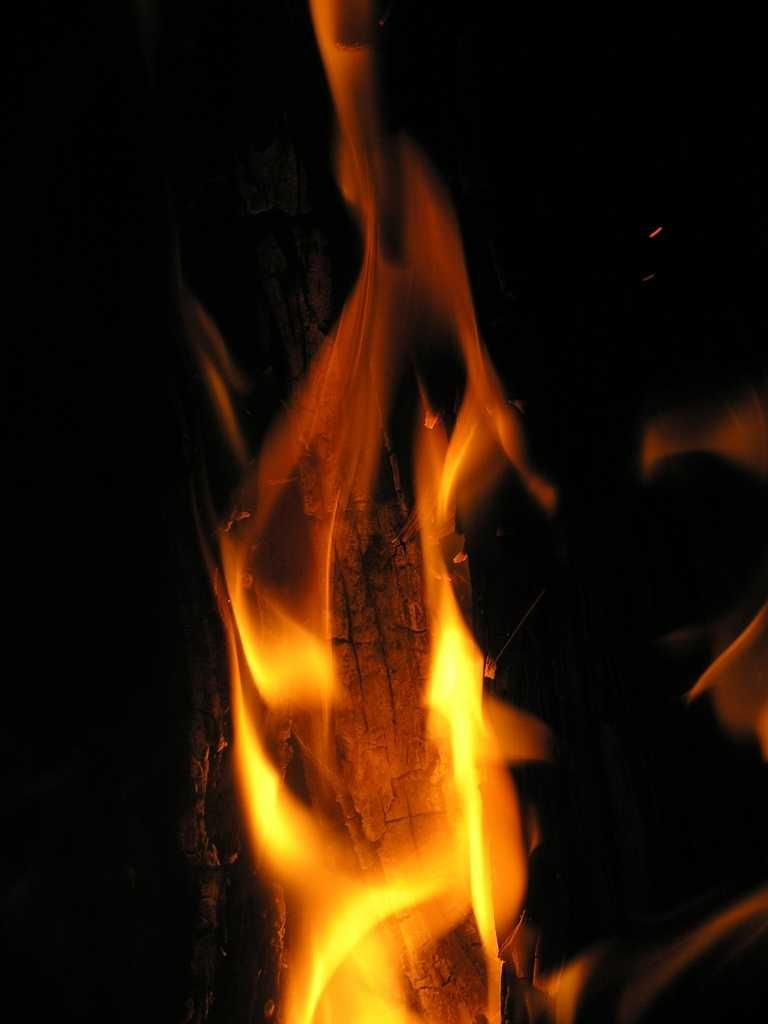fire: (280, 855, 428, 1012), (442, 632, 488, 910), (243, 745, 322, 850), (230, 622, 342, 692)
